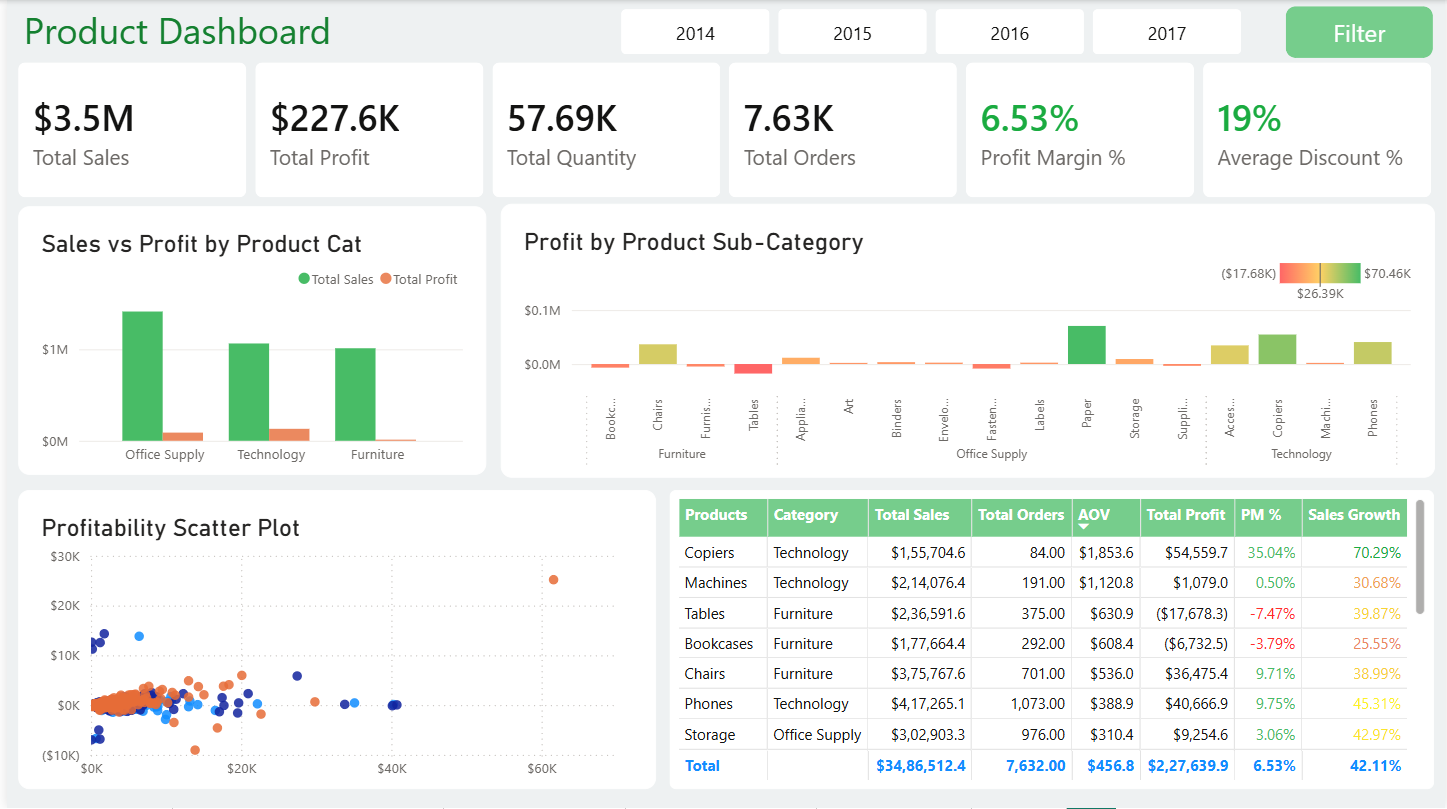

The page's visual inventory and layout, read from the dashboard file:
{"tool":"powerbi","page":{"name":"Product Dashboard","canvas":[1280,720],"ordinal":2},"visuals":[{"type":"textbox","box":[9.8,0,298.2,55.2],"z":0},{"type":"cardVisual","fields":{"Data":["Fact_Sales.Total Sales","Fact_Sales.Total Profit","Fact_Sales.Total Quantity","Fact_Sales.Total Orders","Fact_Sales.Profit Margin %","Fact_Sales.Average Discount %"]},"box":[9.8,55.2,1260,120],"z":1000},{"type":"clusteredColumnChart","title":"Profit by Product Sub-Category","fields":{"Category":["Dim_Product.Category","Dim_Product.Sub Category"],"Y":["Fact_Sales.Total Profit"]},"box":[439.3,181.6,831.9,244.2],"z":2000},{"type":"clusteredColumnChart","title":"Sales vs Profit by Product Cat","fields":{"Category":["Dim_Product.Category"],"Y":["Fact_Sales.Total Sales","Fact_Sales.Total Profit"]},"box":[9.8,184.1,417.2,239.3],"z":3000},{"type":"tableEx","fields":{"Values":["Dim_Product.Sub Category","Dim_Product.Category","Fact_Sales.Total Sales","Fact_Sales.Total Orders","Fact_Sales.Avg Order Value","Fact_Sales.Total Profit","Fact_Sales.Profit Margin %","Fact_Sales.Sales Growth %"]},"box":[590.2,436.8,681,266.3],"z":4000},{"type":"scatterChart","title":"Profitability Scatter Plot","fields":{"X":["Fact_Sales.Total Sales"],"Y":["Fact_Sales.Total Profit"],"Category":["Dim_Product.Product ID"],"Series":["Dim_Product.Category"]},"box":[9.8,436.8,568.1,266.3],"z":5000},{"type":"advancedSlicerVisual","fields":{"Values":["Dim_Date.Year"]},"box":[542.1,3.3,565.5,50.1],"z":6000},{"type":"actionButton","title":"Filter Button","box":[1139.2,5.6,131.1,46],"z":8000}]}

Visuals, with their boxes in screenshot pixels (x1, y1, x2, y2), scaled from the page's 1280x720 canvas onto the 1447x809 screenshot:
textbox: (11, 0, 348, 62)
cardVisual - Fact_Sales.Total Sales x Fact_Sales.Total Profit: (11, 62, 1435, 197)
"Profit by Product Sub-Category" clusteredColumnChart: (497, 204, 1437, 478)
"Sales vs Profit by Product Cat" clusteredColumnChart: (11, 207, 483, 476)
tableEx - Dim_Product.Sub Category x Dim_Product.Category: (667, 491, 1437, 790)
"Profitability Scatter Plot" scatterChart: (11, 491, 653, 790)
advancedSlicerVisual - Dim_Date.Year: (613, 4, 1252, 60)
"Filter Button" actionButton: (1288, 6, 1436, 58)
